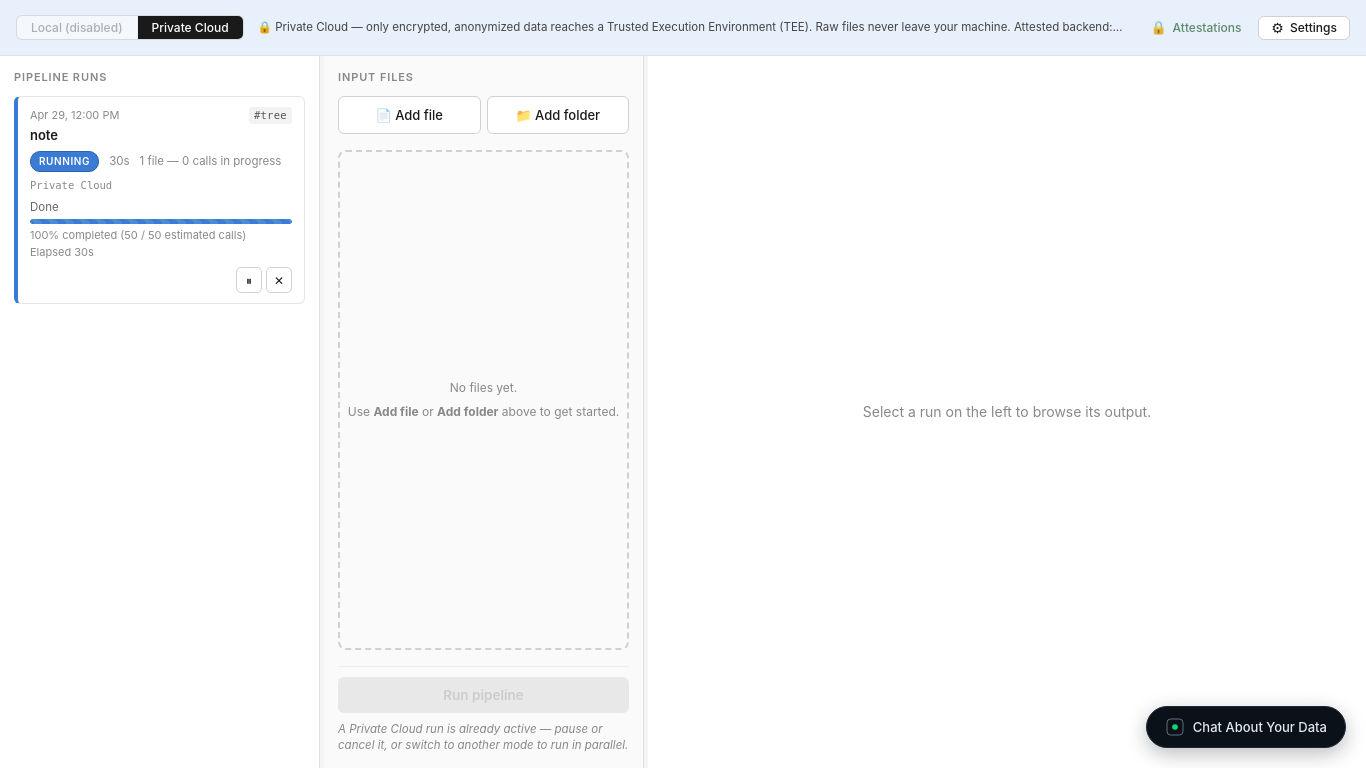
Test: App — run tree default-open + auto-open new dirs › auto-opens 2-entities on a refresh but leaves its type groups closed
Check: the text "Pipeline runs" is shown, box x1=14 y1=70 x2=107 y2=86
Click the list item "note". click: point(160, 200)
box: x1=14 y1=96 x2=305 y2=304
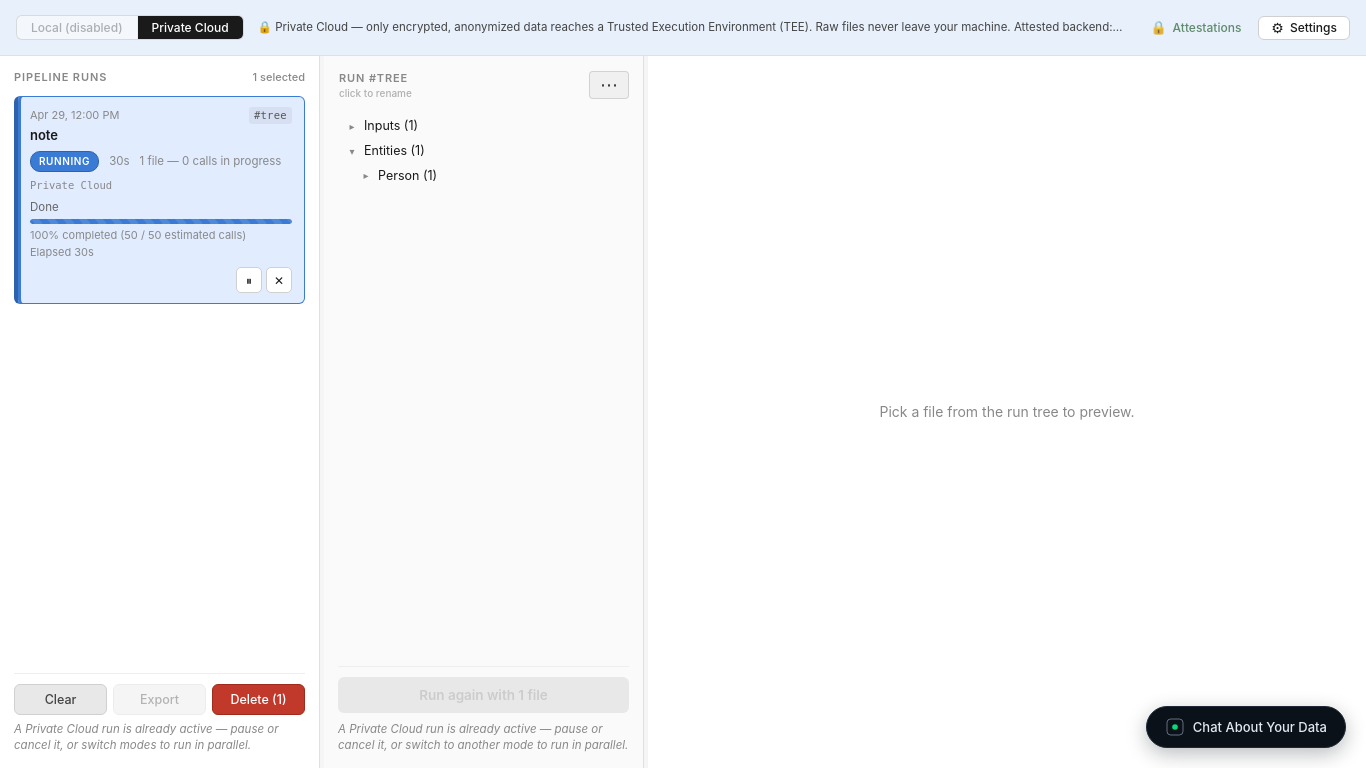
Check: the text "Inputs (1)" is shown, box x1=364 y1=118 x2=418 y2=133
Check: the text "Person (1)" is shown, box x1=378 y1=168 x2=437 y2=182
